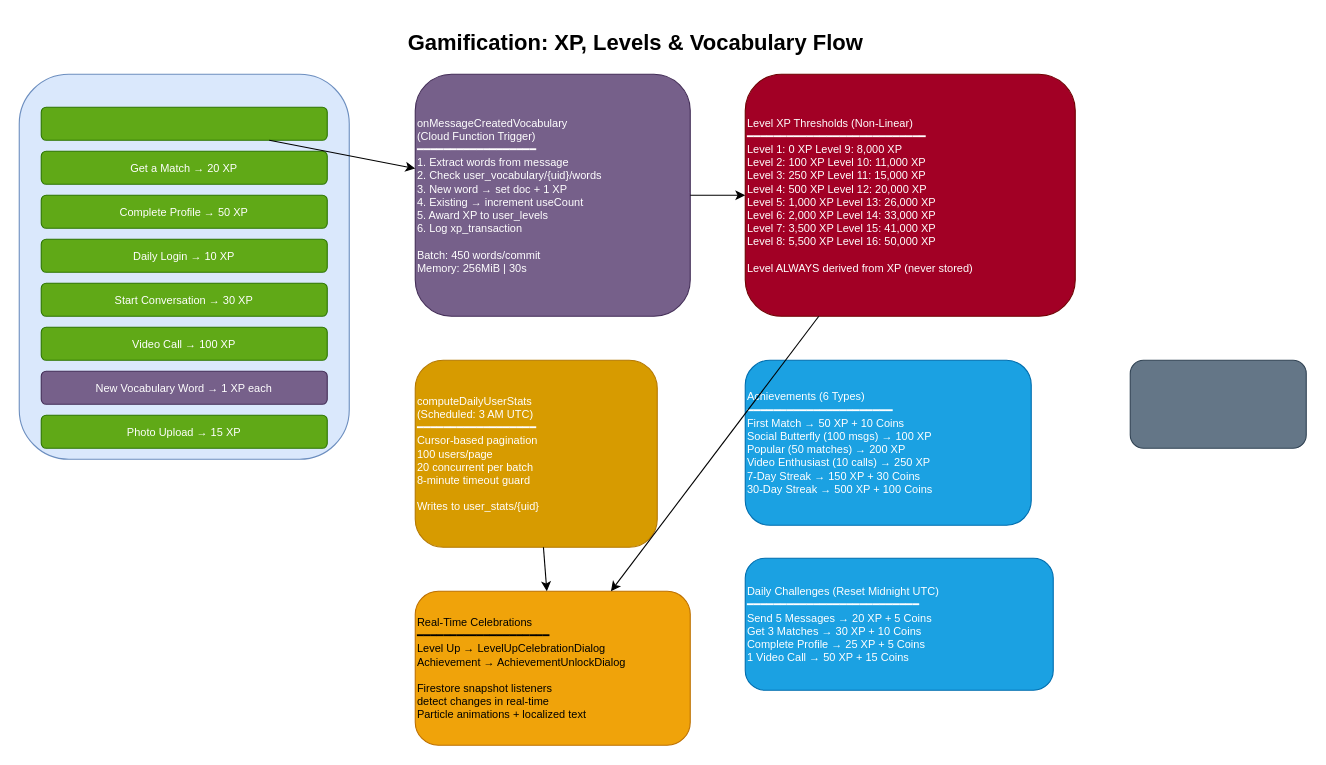
The diagram is 1326 pixels wide and 765 high, and some of its shapes have lost their labels. Each missing label, with the box of its shape:
Leaderboard (Updated Hourly) Global + Regional Ranked by totalXP: (1129, 359, 1306, 448)
Send Message → Vocabulary Trigger: (40, 106, 327, 140)
XP-Earning Actions: (18, 73, 349, 459)
